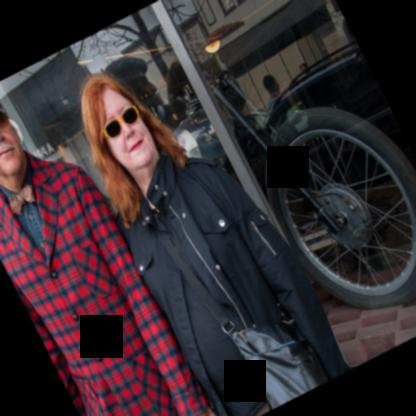handbag: (231, 317, 329, 409)
